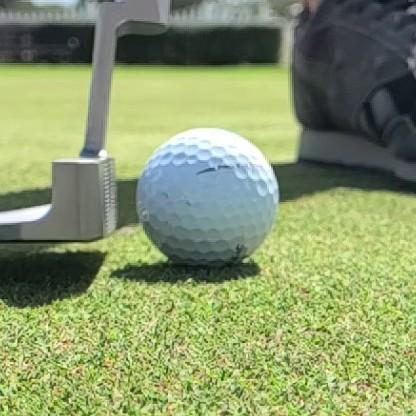golfball: (135, 128, 279, 267)
